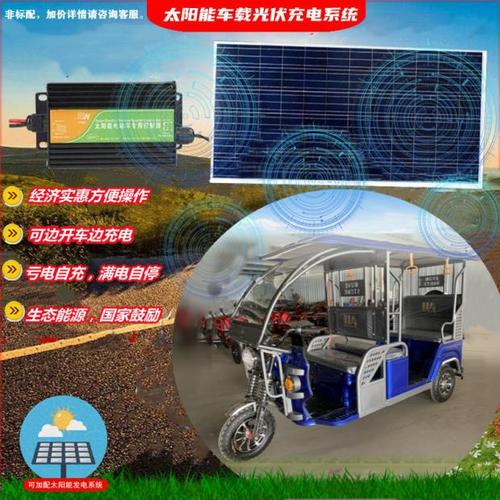empty: (208, 232, 474, 447)
